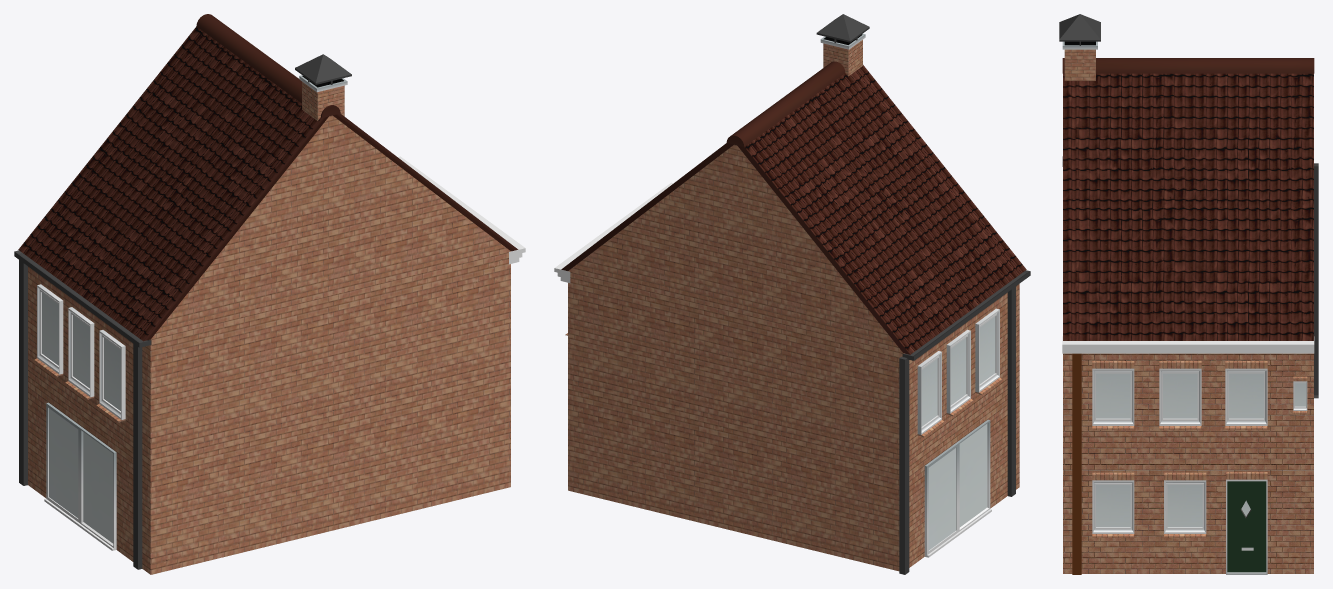
Rendered from It_Bynt_6.fbx.
3 renders of one model, left to right at view 1: azimuth 30°, elevation 25°; view 2: azimuth 150°, elevation 25°; view 3: azimuth 270°, elevation 25°, orthographic. The views are drawn at different scales.
Visible parts, largest first — view 1: It_Bynt_6; view 2: It_Bynt_6; view 3: It_Bynt_6.
Part boxes in pixels (box(x1,y1,x2,y2)): It_Bynt_6: box(14, 14, 525, 574); It_Bynt_6: box(554, 14, 1030, 574); It_Bynt_6: box(1059, 14, 1318, 574).
Bounding box in the file's own units: 1016 × 1183 × 589.
